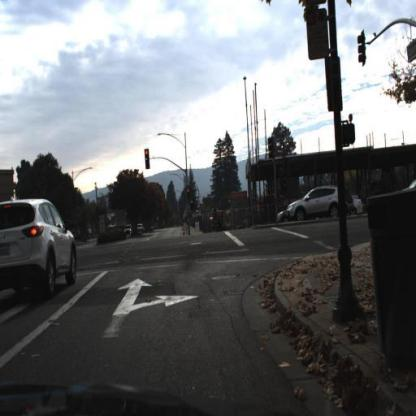car: (1, 198, 87, 300), (1, 197, 78, 308), (291, 188, 342, 217), (273, 202, 292, 228), (351, 195, 367, 216), (125, 226, 134, 240)
pedestrian: (246, 208, 252, 229), (218, 213, 224, 231)
trafficLight-Red: (144, 149, 150, 171), (186, 187, 191, 199)
